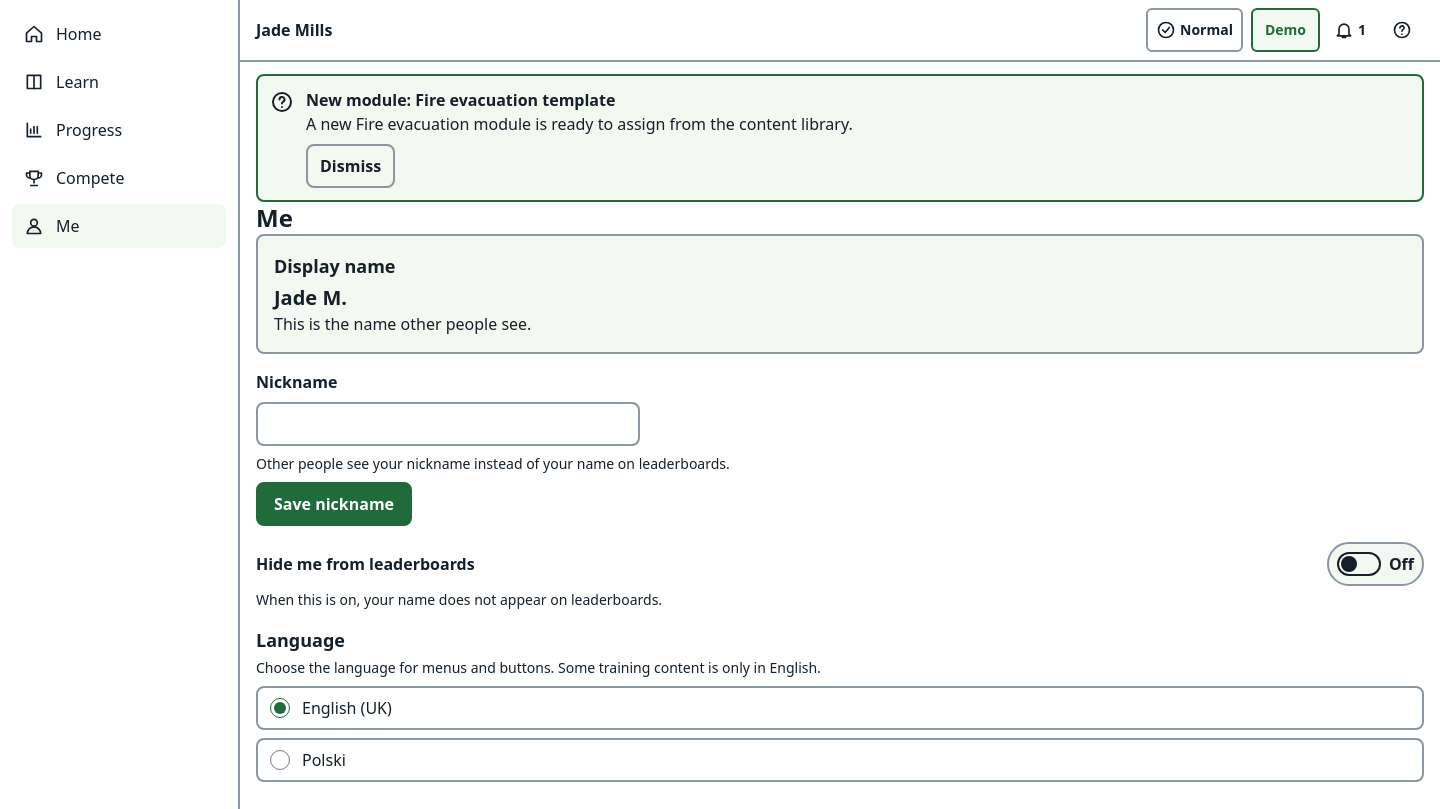
Scenario: S11 Me › saves a nickname for the learner and shows it in the preview
This screenshot has width=1440, height=809.
Type "Jay" into the field labelled "Nickname" at (448, 424), box x1=256 y1=402 x2=640 y2=446
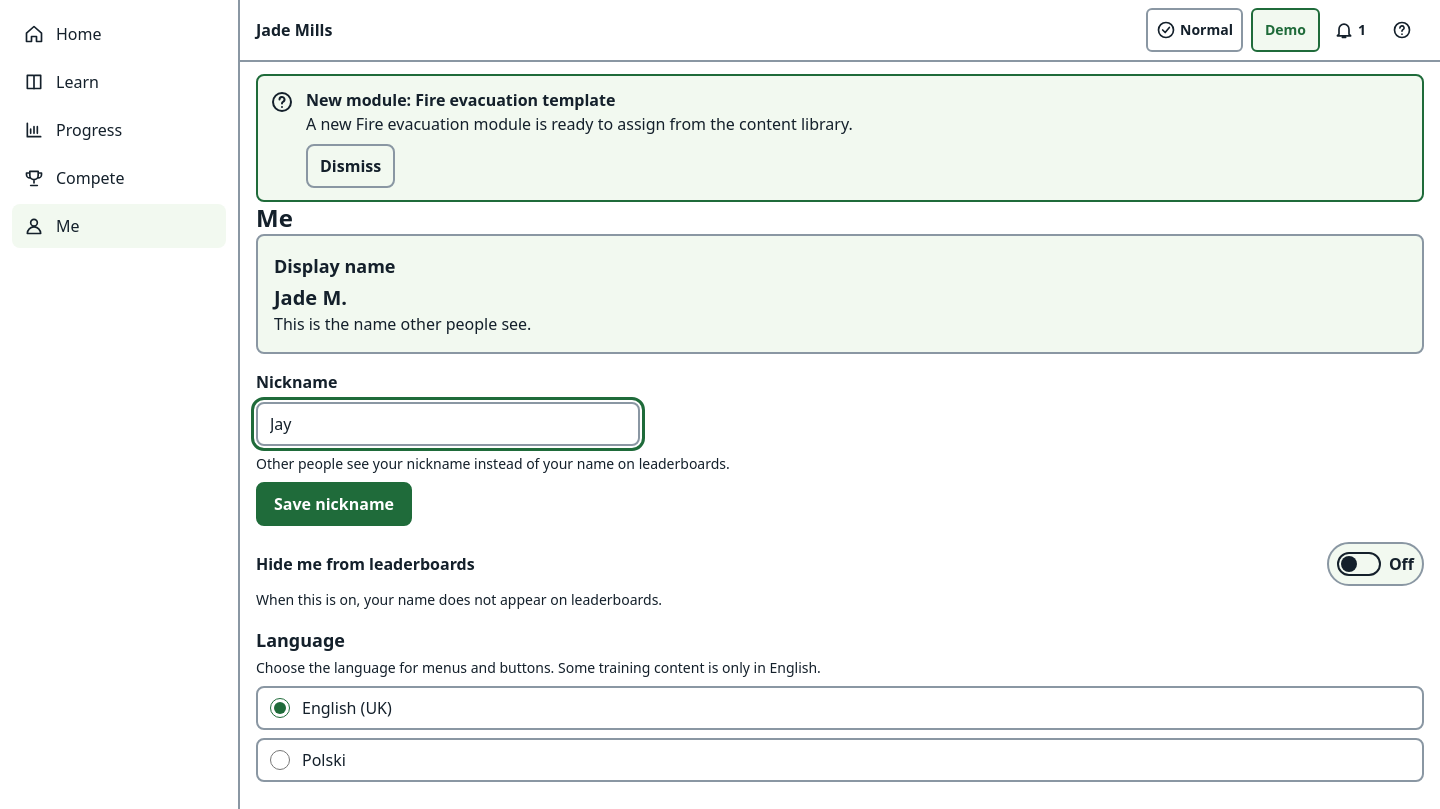
Click the button "Save nickname" at (334, 504), box x1=256 y1=482 x2=412 y2=526
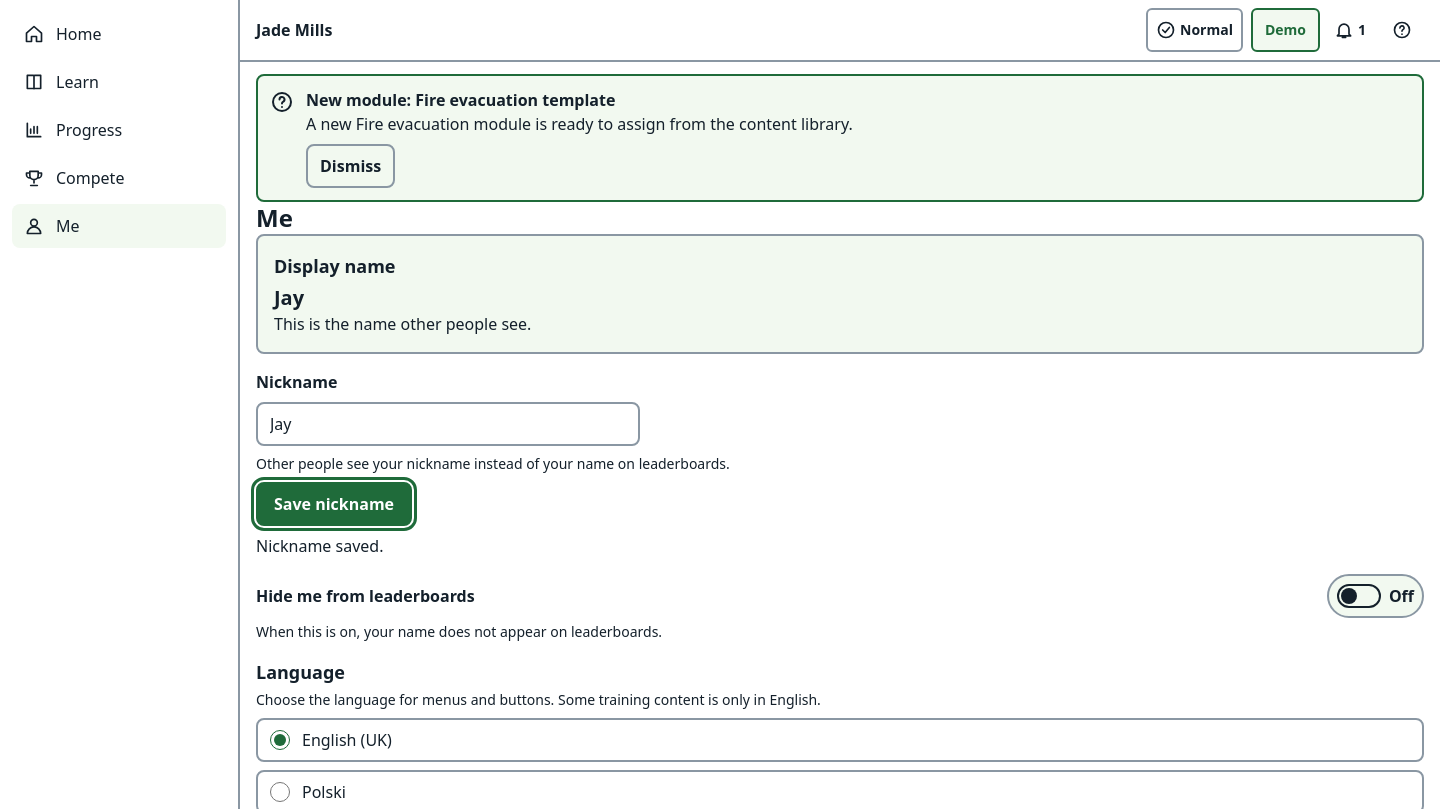
Now the text "Jay" is shown, box x1=274 y1=284 x2=304 y2=311
Now the element with test id "display-name-preview" shows "Jay", box x1=274 y1=284 x2=304 y2=311
